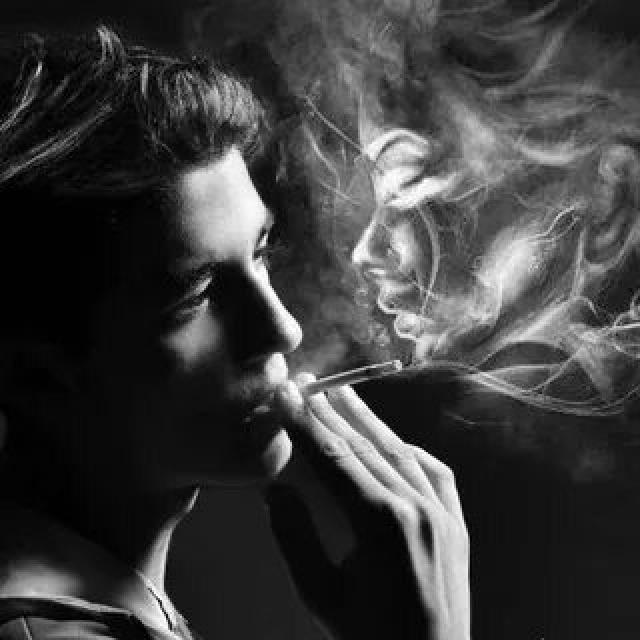cigarette: (282, 358, 404, 406)
